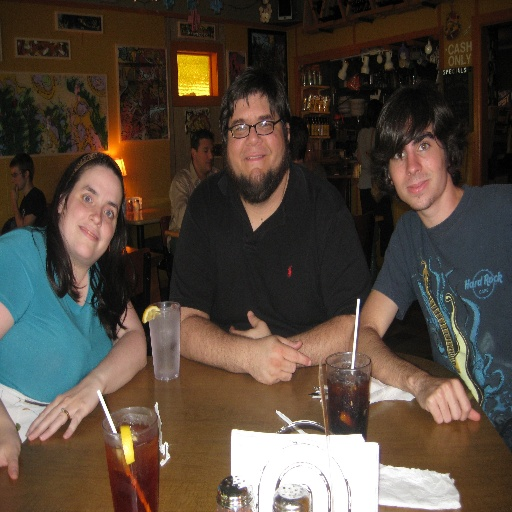hand: (32, 365, 112, 449), (245, 334, 312, 385), (414, 378, 482, 424), (226, 309, 273, 340), (0, 420, 22, 483), (9, 187, 17, 202)
